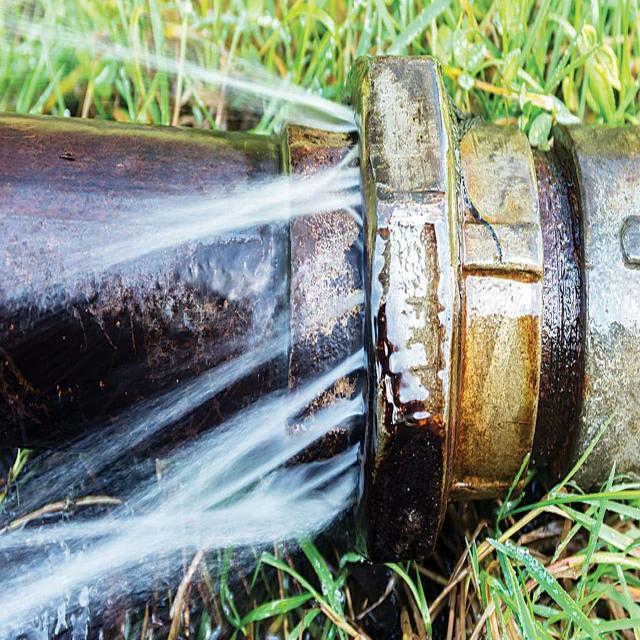leak: (0, 350, 362, 640), (0, 166, 360, 310), (11, 334, 289, 514), (0, 16, 354, 130)
